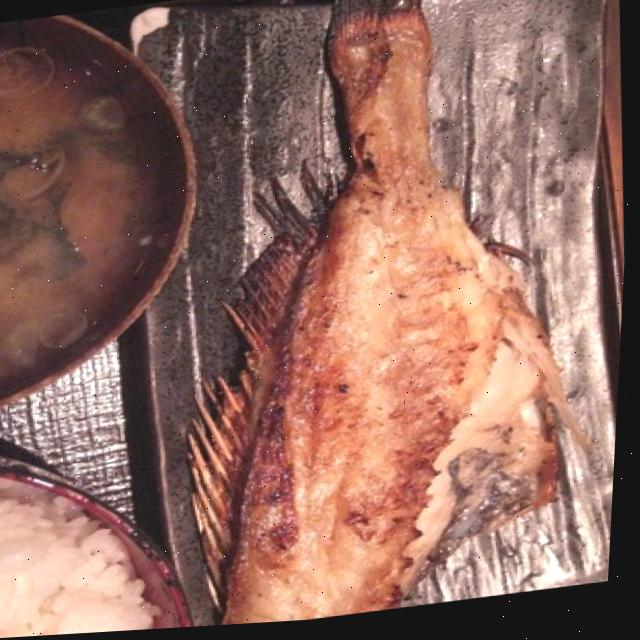熟制海鲜: (162, 0, 577, 631)
